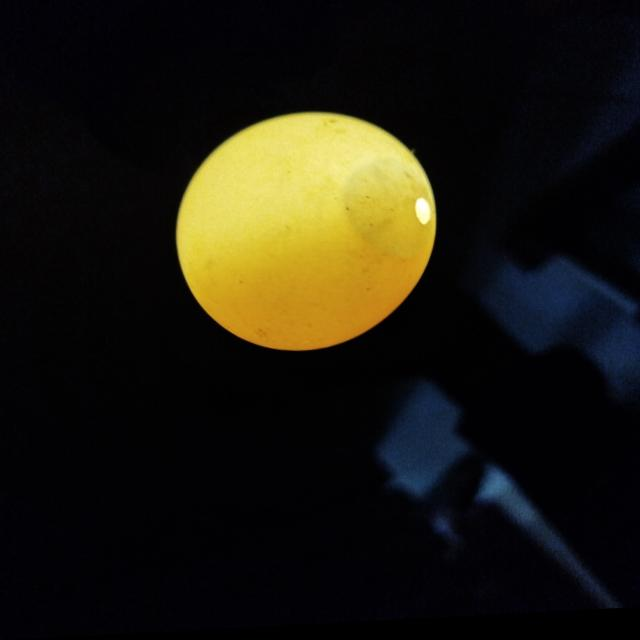Camara de Ar: (345, 162, 432, 262)
